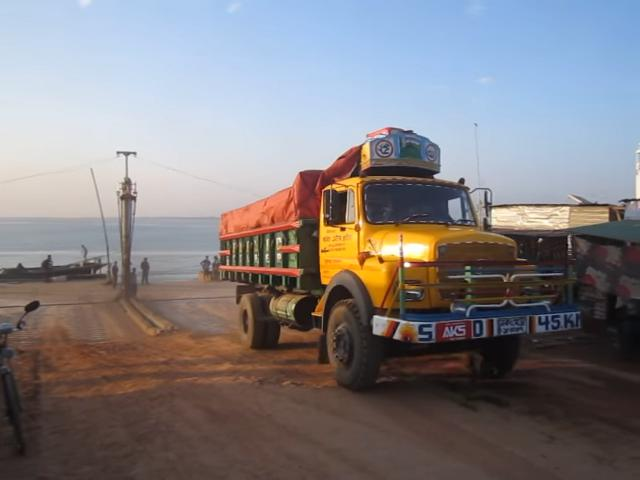truck: (212, 123, 580, 398)
